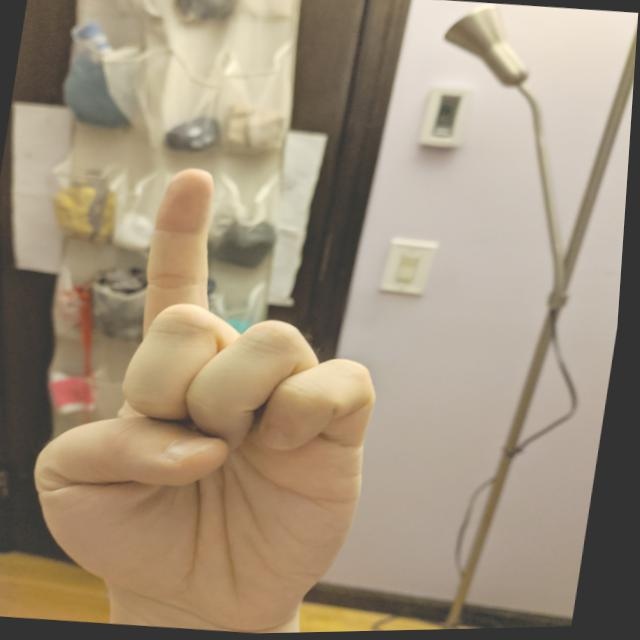D: (15, 149, 423, 638)
